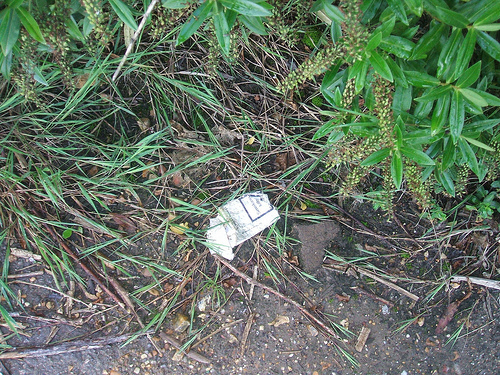litter: (205, 189, 281, 260)
